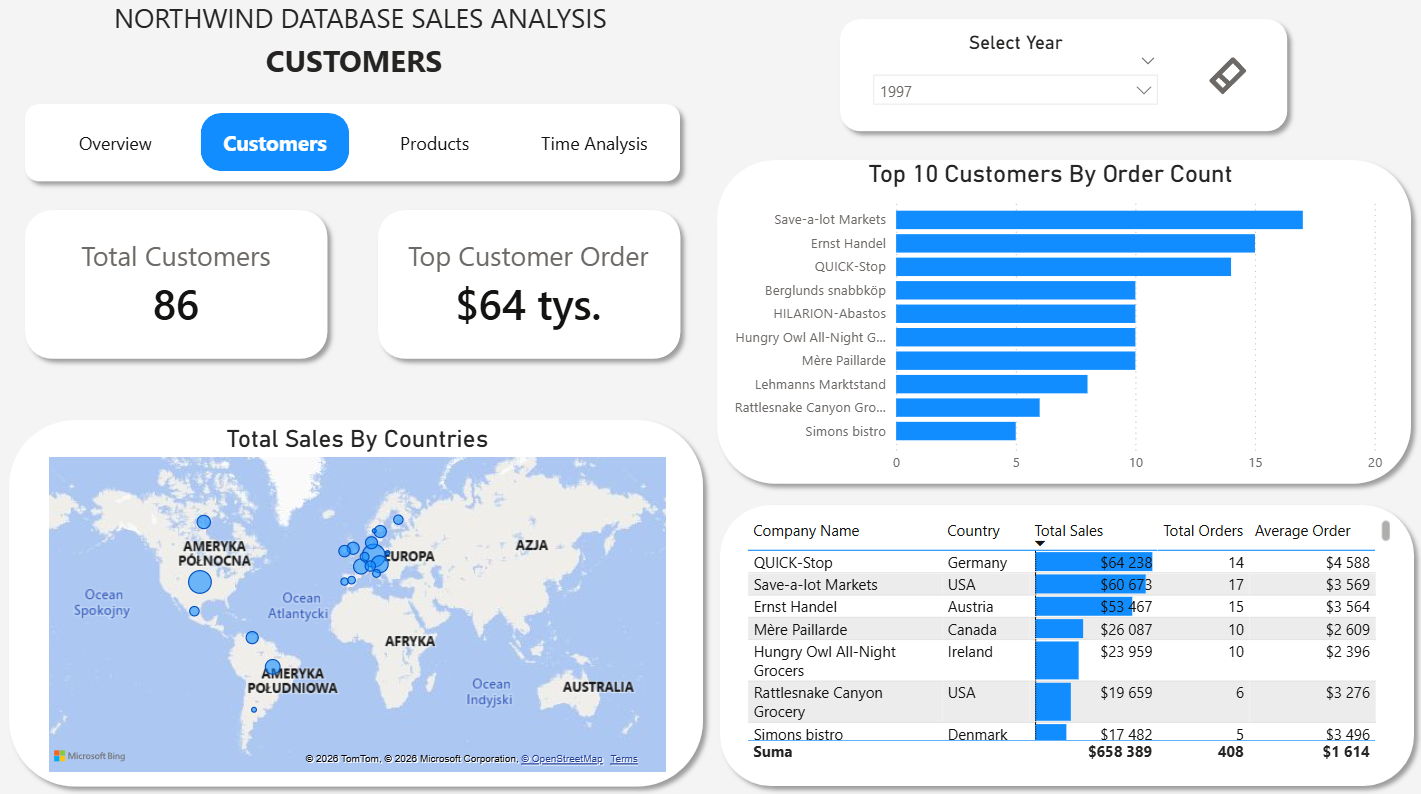

Layout of this report page (visuals, bound fields, positions):
{"tool":"powerbi","page":{"name":"Customers","canvas":[1280,720],"ordinal":1},"visuals":[{"type":"shape","box":[640.6,450,639.4,269.5],"z":0},{"type":"shape","box":[3.4,373.3,639.4,346.2],"z":1000},{"type":"shape","box":[637.2,141,639.4,307.9],"z":2000},{"type":"map","title":"Total Sales By Countries","fields":{"Category":["customers_dim.country"],"Size":["Measure.Total Sales"]},"box":[42.9,386.8,562.7,315.8],"z":3000},{"type":"textbox","box":[0,0,654.4,53.7],"z":4000},{"type":"textbox","box":[0,37,642.9,53.7],"z":5000},{"type":"shape","box":[18.1,185,288.7,151.1],"z":6000},{"type":"shape","box":[333.9,185,288.7,151.1],"z":7000},{"type":"cardVisual","fields":{"Data":["Measure.Top Customer Sales"]},"box":[315.8,200.7,323.7,119.5],"z":8000},{"type":"cardVisual","fields":{"Data":["Measure.Total Customers"]},"box":[0,200.7,324.8,119.5],"z":9000},{"type":"barChart","title":"Top 10 Customers By Order Count","fields":{"Category":["customers_dim.company_name"],"Y":["Measure.Total Orders"]},"box":[642.8,150,604.5,288.7],"z":10000},{"type":"tableEx","fields":{"Values":["customers_dim.company_name","customers_dim.country","Measure.Total Sales","Measure.Total Orders","Measure.Average Order"]},"box":[668.1,466.6,586.6,226.6],"z":11000},{"type":"shape","box":[747.7,14.7,418.4,118.4],"z":12000},{"type":"slicer","title":"Select Year","fields":{"Values":["date_dim.year"]},"box":[776.2,34,275.3,88.5],"z":13000},{"type":"actionButton","box":[1083.5,53.5,49.6,40.9],"z":14000},{"type":"shape","box":[18.2,90.1,604.6,87.2],"z":15000},{"type":"pageNavigator","box":[41.2,107.3,565.3,52.7],"z":16000}]}

Visuals, with their boxes in screenshot pixels (x1, y1, x2, y2), scaled from the page's 1280x720 canvas onto the 1421x794 screenshot:
shape: <region>711, 496, 1420, 793</region>
shape: <region>4, 412, 714, 793</region>
shape: <region>707, 155, 1417, 495</region>
"Total Sales By Countries" map: <region>48, 427, 672, 775</region>
textbox: <region>0, 0, 726, 59</region>
textbox: <region>0, 41, 714, 100</region>
shape: <region>20, 204, 341, 371</region>
shape: <region>371, 204, 691, 371</region>
cardVisual - Measure.Top Customer Sales: <region>351, 221, 710, 353</region>
cardVisual - Measure.Total Customers: <region>0, 221, 361, 353</region>
"Top 10 Customers By Order Count" barChart: <region>714, 165, 1385, 484</region>
tableEx - customers_dim.company_name x customers_dim.country: <region>742, 515, 1393, 764</region>
shape: <region>830, 16, 1295, 147</region>
"Select Year" slicer: <region>862, 37, 1167, 135</region>
actionButton: <region>1203, 59, 1258, 104</region>
shape: <region>20, 99, 691, 196</region>
pageNavigator: <region>46, 118, 673, 176</region>
